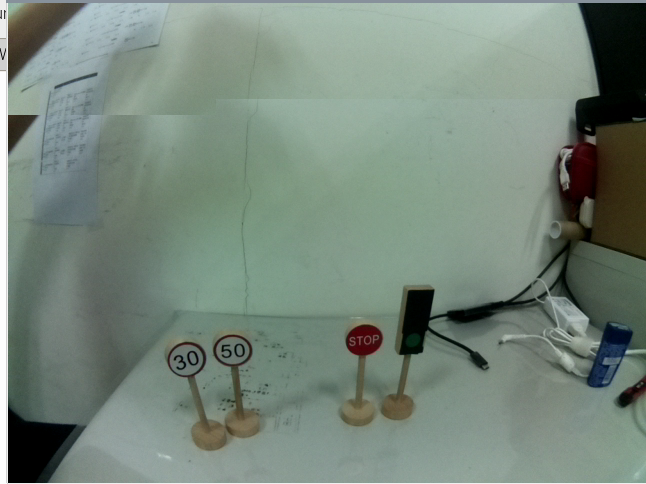Green: (390, 281, 436, 364)
Speed30: (160, 332, 210, 381)
Speed50: (212, 330, 252, 367)
Stop: (344, 322, 383, 359)
